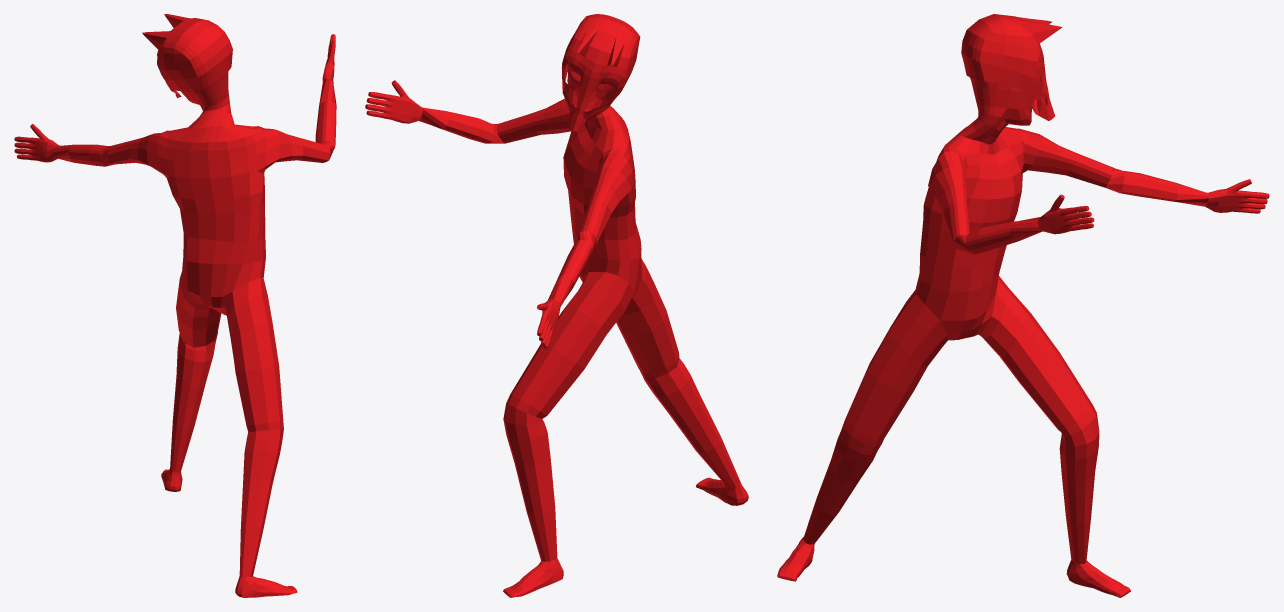
File: activaAlarma_000161.obj
3 views of the same model, side by side, from view 1: azimuth 30°, elevation 25°; view 2: azimuth 150°, elevation 25°; view 3: azimuth 270°, elevation 25° (orthographic). The views are drawn at different scales.
Parts seen in each view (by area): view 1: Plane.002_Plane.001; view 2: Plane.002_Plane.001; view 3: Plane.002_Plane.001.
Part boxes in pixels (x1,y1,x2,y2): Plane.002_Plane.001: (14,14,336,597); Plane.002_Plane.001: (365,14,748,597); Plane.002_Plane.001: (777,14,1269,597).
Size of the model in its own units: 3.37 by 6.67 by 5.27.
